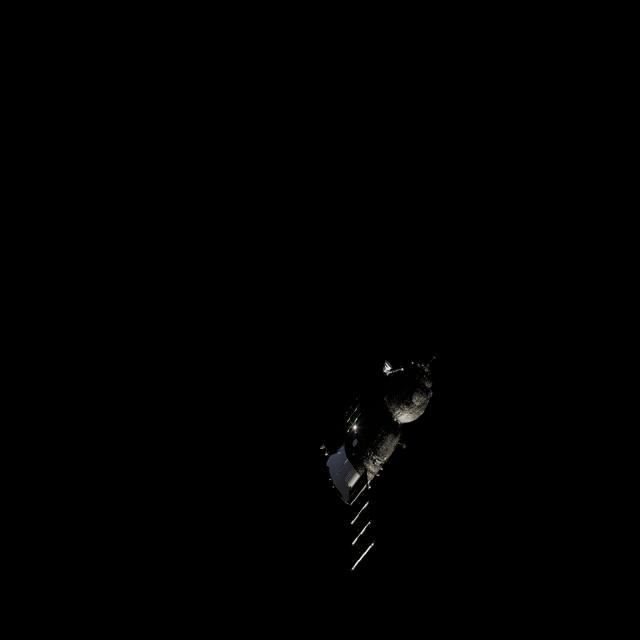Satellites revolving around earth: (316, 350, 436, 574)
